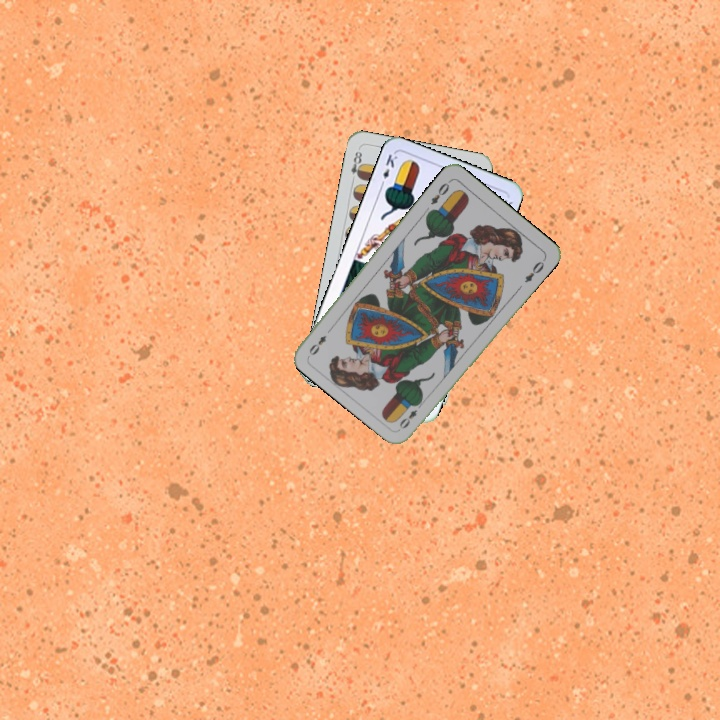E8: (347, 147, 366, 185)
EK: (376, 150, 400, 190)
EO: (395, 397, 426, 431), (426, 176, 453, 207)
